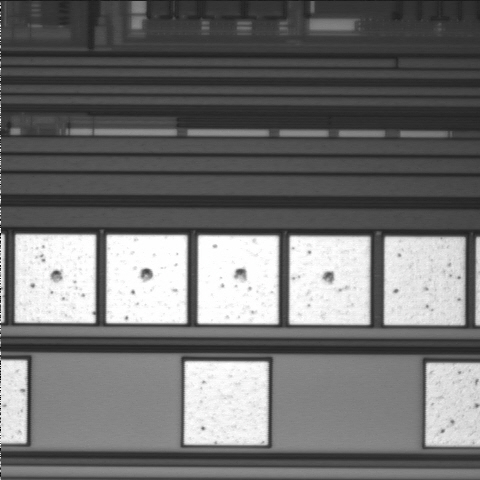pad: (15, 234, 96, 323), (106, 235, 187, 324), (198, 235, 279, 324), (289, 236, 370, 325), (384, 237, 465, 325), (184, 361, 268, 445)
